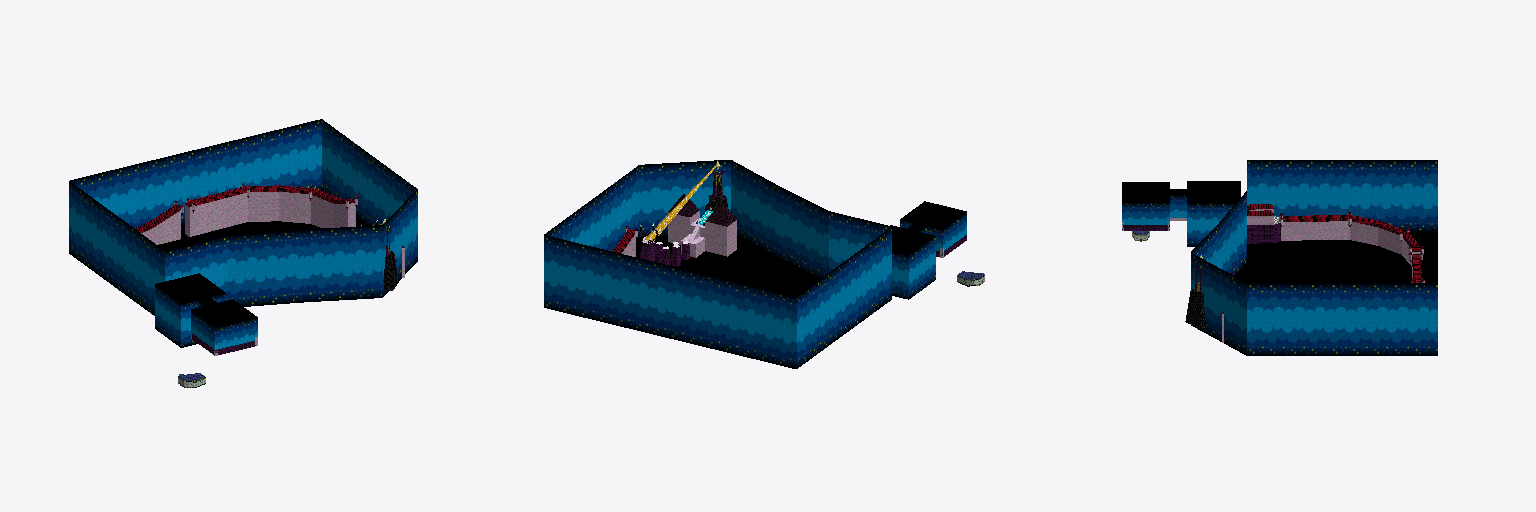
3 renders of one model, left to right at view 1: azimuth 30°, elevation 25°; view 2: azimuth 150°, elevation 25°; view 3: azimuth 270°, elevation 25°, orthographic.
Visible parts, largest first — view 1: Mesh22 Group24 Group1 Model, Mesh9 Group2 Group1 Model, Mesh119 Group97 Group95 Group94 Model, Mesh124 Group123 Group122 Group94 Model, Mesh12 Group12 Group11 Group1 Model; view 2: Mesh22 Group24 Group1 Model, Mesh59 Group27 Group1 Model, Mesh124 Group123 Group122 Group94 Model, Mesh119 Group97 Group95 Group94 Model; view 3: Mesh22 Group24 Group1 Model, Mesh12 Group12 Group11 Group1 Model, Mesh119 Group97 Group95 Group94 Model, Mesh124 Group123 Group122 Group94 Model, Mesh20 Group20 Group11 Group1 Model, Mesh38 Group37 Group31 Group27 Group1 Model.
Boxes of the visible parts, box(x1,y1,x2,y2) form: Mesh22 Group24 Group1 Model: box(69, 119, 417, 315); Mesh9 Group2 Group1 Model: box(185, 185, 355, 236); Mesh119 Group97 Group95 Group94 Model: box(191, 297, 257, 354); Mesh124 Group123 Group122 Group94 Model: box(155, 273, 225, 347); Mesh12 Group12 Group11 Group1 Model: box(134, 204, 180, 244); Mesh22 Group24 Group1 Model: box(544, 160, 891, 368); Mesh59 Group27 Group1 Model: box(668, 194, 736, 257); Mesh124 Group123 Group122 Group94 Model: box(890, 225, 935, 299); Mesh119 Group97 Group95 Group94 Model: box(900, 201, 966, 256); Mesh22 Group24 Group1 Model: box(1191, 160, 1437, 355); Mesh12 Group12 Group11 Group1 Model: box(1281, 215, 1420, 266); Mesh119 Group97 Group95 Group94 Model: box(1122, 182, 1186, 230); Mesh124 Group123 Group122 Group94 Model: box(1187, 181, 1240, 246); Mesh20 Group20 Group11 Group1 Model: box(1247, 216, 1280, 243); Mesh38 Group37 Group31 Group27 Group1 Model: box(1185, 289, 1205, 328).
Size of the model in its own units: 12612 by 3790 by 11924.
40 materials, 37 textured.